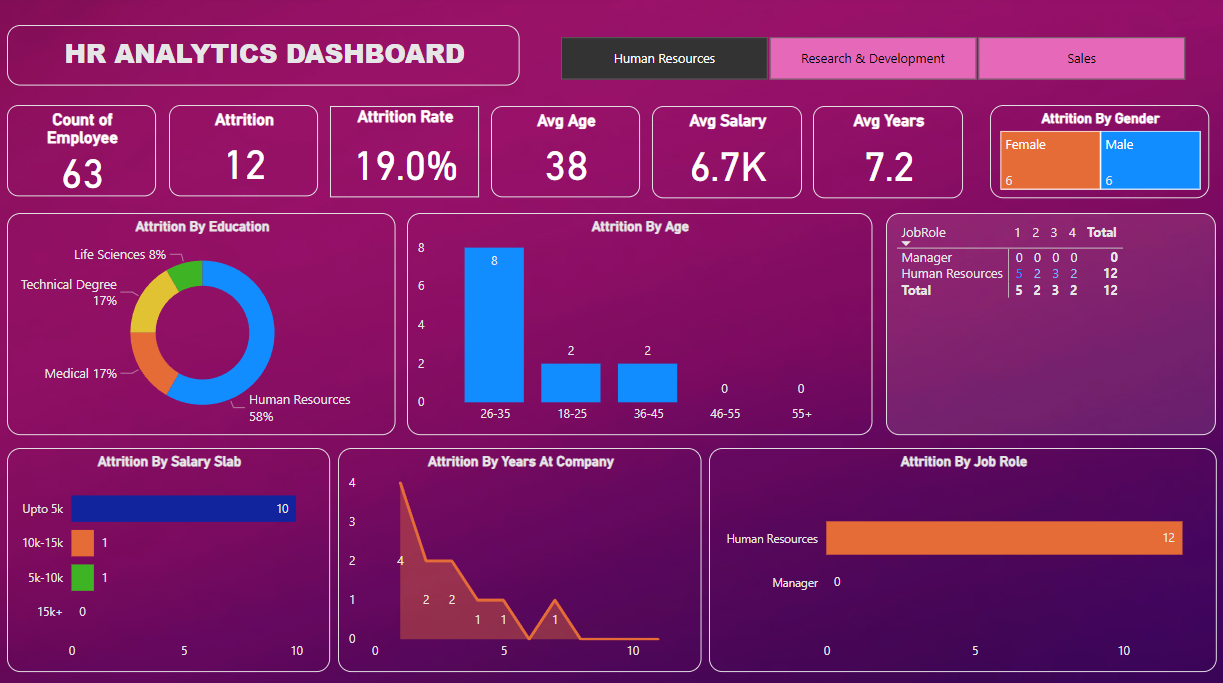

This screenshot's page, from the dashboard's own definition file:
{"tool":"powerbi","page":{"name":"Page 1","canvas":[1280,720],"ordinal":0},"visuals":[{"type":"card","title":"Count of Employee","fields":{"Values":["CountNonNull(HR_Analytics.EmpID)"]},"box":[11.4,112.3,154.9,94.6],"z":0},{"type":"card","title":"Attrition","fields":{"Values":["Sum(HR_Analytics.AttritionCount)"]},"box":[179.9,112.3,154.9,94.6],"z":1000},{"type":"card","title":"Attrition Rate","fields":{"Values":["HR_Analytics.AttritionRate"]},"box":[347.3,113.3,154.9,94.6],"z":2000},{"type":"card","title":"Avg Age","fields":{"Values":["Avg(HR_Analytics.Age)"]},"box":[514.7,113.3,154.9,94.6],"z":3000},{"type":"card","title":"Avg Salary","fields":{"Values":["Avg(HR_Analytics.MonthlyIncome)"]},"box":[682.1,113.3,156,95.7],"z":4000},{"type":"card","title":"Avg Years","fields":{"Values":["Avg(HR_Analytics.YearsAtCompany)"]},"box":[849.5,113.3,156,95.7],"z":5000},{"type":"donutChart","title":"Attrition By Education","fields":{"Category":["HR_Analytics.EducationField"],"Y":["Sum(HR_Analytics.AttritionCount)"]},"box":[11.4,224.6,404.5,230.8],"z":6000},{"type":"columnChart","title":"Attrition By Age","fields":{"Category":["HR_Analytics.AgeGroup"],"Y":["Sum(HR_Analytics.AttritionCount)"]},"box":[427.4,224.6,483.5,230.8],"z":7000},{"type":"pivotTable","fields":{"Rows":["HR_Analytics.JobRole"],"Columns":["HR_Analytics.JobSatisfaction"],"Values":["Sum(HR_Analytics.AttritionCount)"]},"box":[925.4,224.6,343.1,230.8],"z":8000},{"type":"clusteredBarChart","title":"Attrition By Salary Slab","fields":{"Category":["HR_Analytics.SalarySlab"],"Y":["Sum(HR_Analytics.AttritionCount)"]},"box":[11.4,469,335.9,232.9],"z":9000},{"type":"clusteredBarChart","title":"Attrition By Job Role","fields":{"Category":["HR_Analytics.JobRole"],"Y":["Sum(HR_Analytics.AttritionCount)"]},"box":[741.4,469,528.2,232.9],"z":10000},{"type":"stackedAreaChart","title":"Attrition By Years At Company","fields":{"Category":["HR_Analytics.YearsAtCompany"],"Y":["Sum(HR_Analytics.AttritionCount)"]},"box":[355.6,469,378.5,232.9],"z":11000},{"type":"treemap","title":"Attrition By Gender","fields":{"Group":["HR_Analytics.Gender"],"Values":["Sum(HR_Analytics.AttritionCount)"]},"box":[1033.6,112.3,227.7,96.7],"z":12000},{"type":"slicer","fields":{"Values":["HR_Analytics.Department"]},"box":[561.5,20.8,698.7,71.7],"z":13000},{"type":"textbox","box":[11.4,29.1,533.4,63.4],"z":13001}]}

Visuals, with their boxes in screenshot pixels (x1, y1, x2, y2), scaled from the page's 1280x720 canvas onto the 1223x683 screenshot:
"Count of Employee" card: locate(11, 107, 159, 196)
"Attrition" card: locate(172, 107, 320, 196)
"Attrition Rate" card: locate(332, 107, 480, 197)
"Avg Age" card: locate(492, 107, 640, 197)
"Avg Salary" card: locate(652, 107, 801, 198)
"Avg Years" card: locate(812, 107, 961, 198)
"Attrition By Education" donutChart: locate(11, 213, 397, 432)
"Attrition By Age" columnChart: locate(408, 213, 870, 432)
pivotTable - HR_Analytics.JobRole x HR_Analytics.JobSatisfaction: locate(884, 213, 1212, 432)
"Attrition By Salary Slab" clusteredBarChart: locate(11, 445, 332, 666)
"Attrition By Job Role" clusteredBarChart: locate(708, 445, 1213, 666)
"Attrition By Years At Company" stackedAreaChart: locate(340, 445, 701, 666)
"Attrition By Gender" treemap: locate(988, 107, 1205, 198)
slicer - HR_Analytics.Department: locate(536, 20, 1204, 88)
textbox: locate(11, 28, 521, 88)
